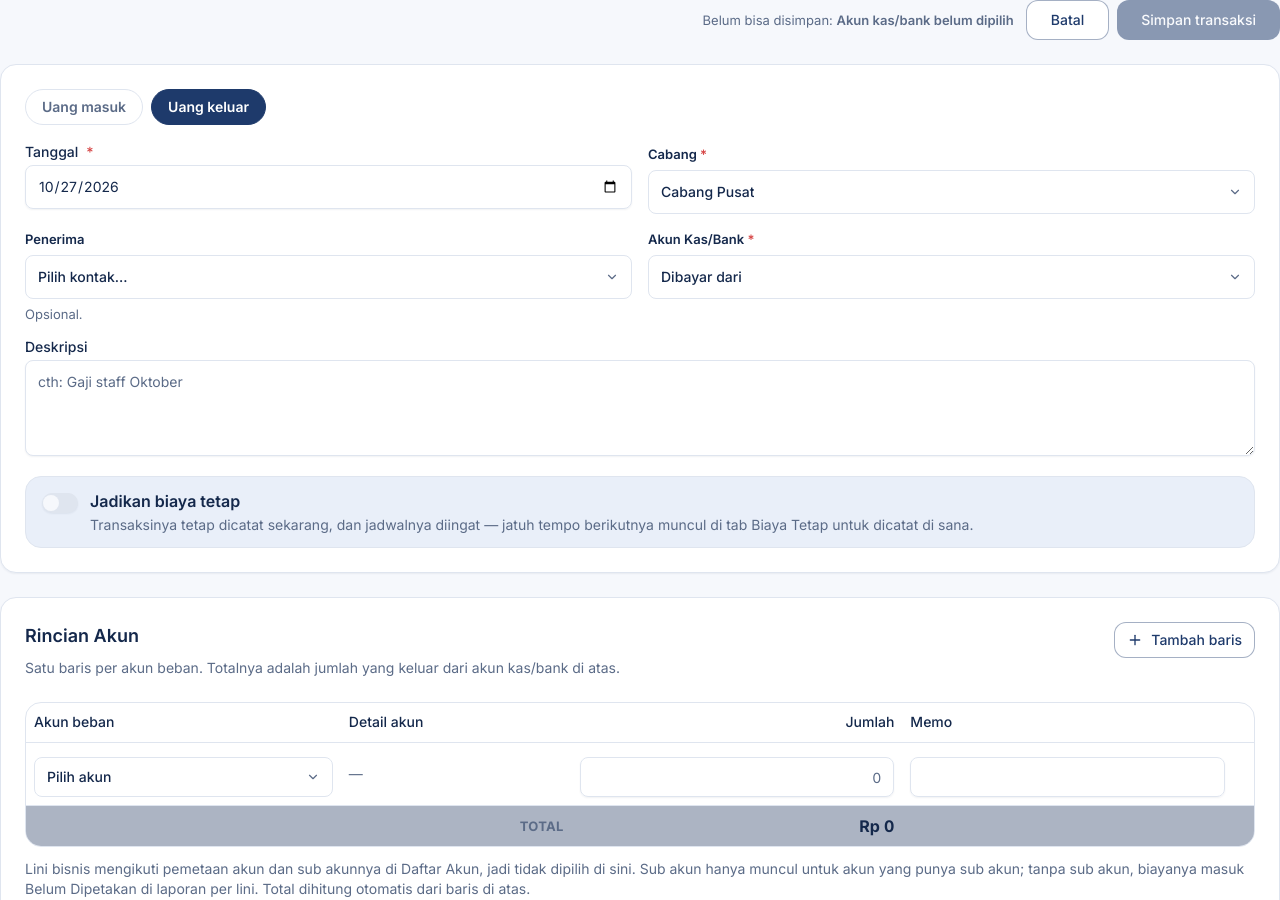
CashTransactionCreateForm › reads the bukti kas series off the account's jenis
The width and height of the screenshot is (1280, 900).
Expected: the button "Simpan transaksi" is shown, [1117,0,1279,40]
Click the button with aria-label "Akun Kas/Bank" at (701, 276), box [648,255,1255,299]
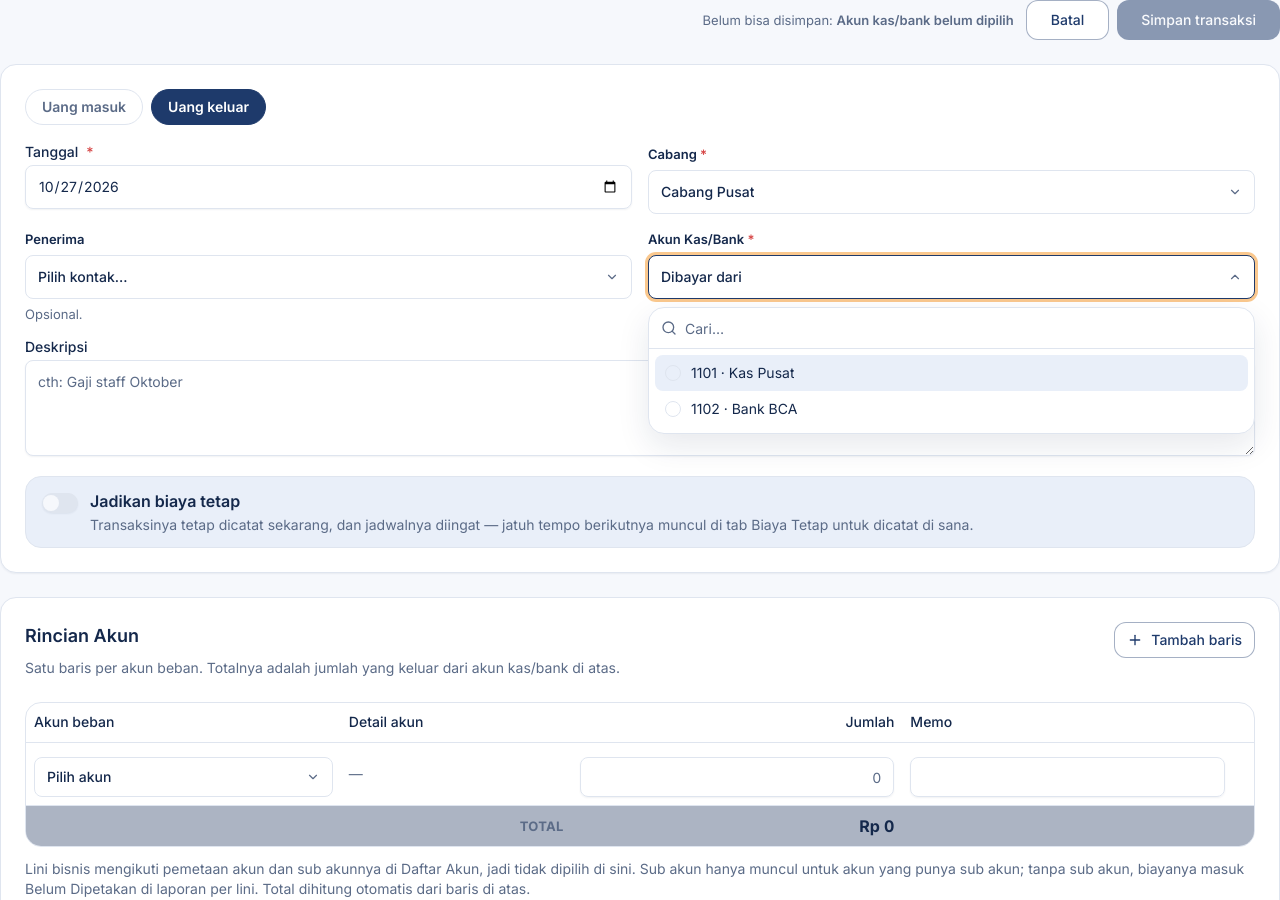
Click the option "1101 · Kas Pusat" at (743, 372), box [655,355,1248,391]
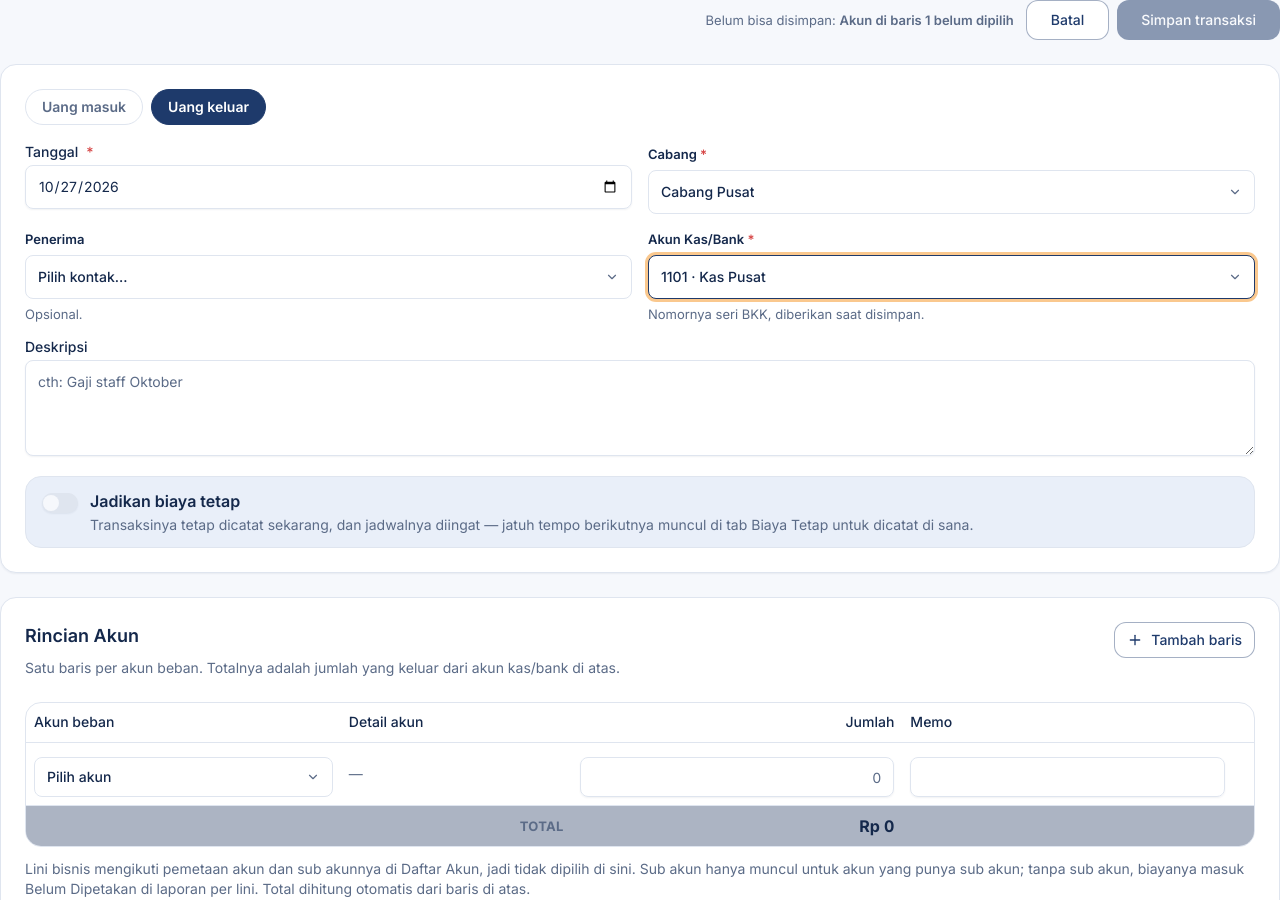
Expected: the text "Nomornya seri BKK, diberikan saat disimpan." is shown, [648,306,924,322]
Click the button with aria-label "Akun Kas/Bank" at (713, 276), box [648,255,1255,299]
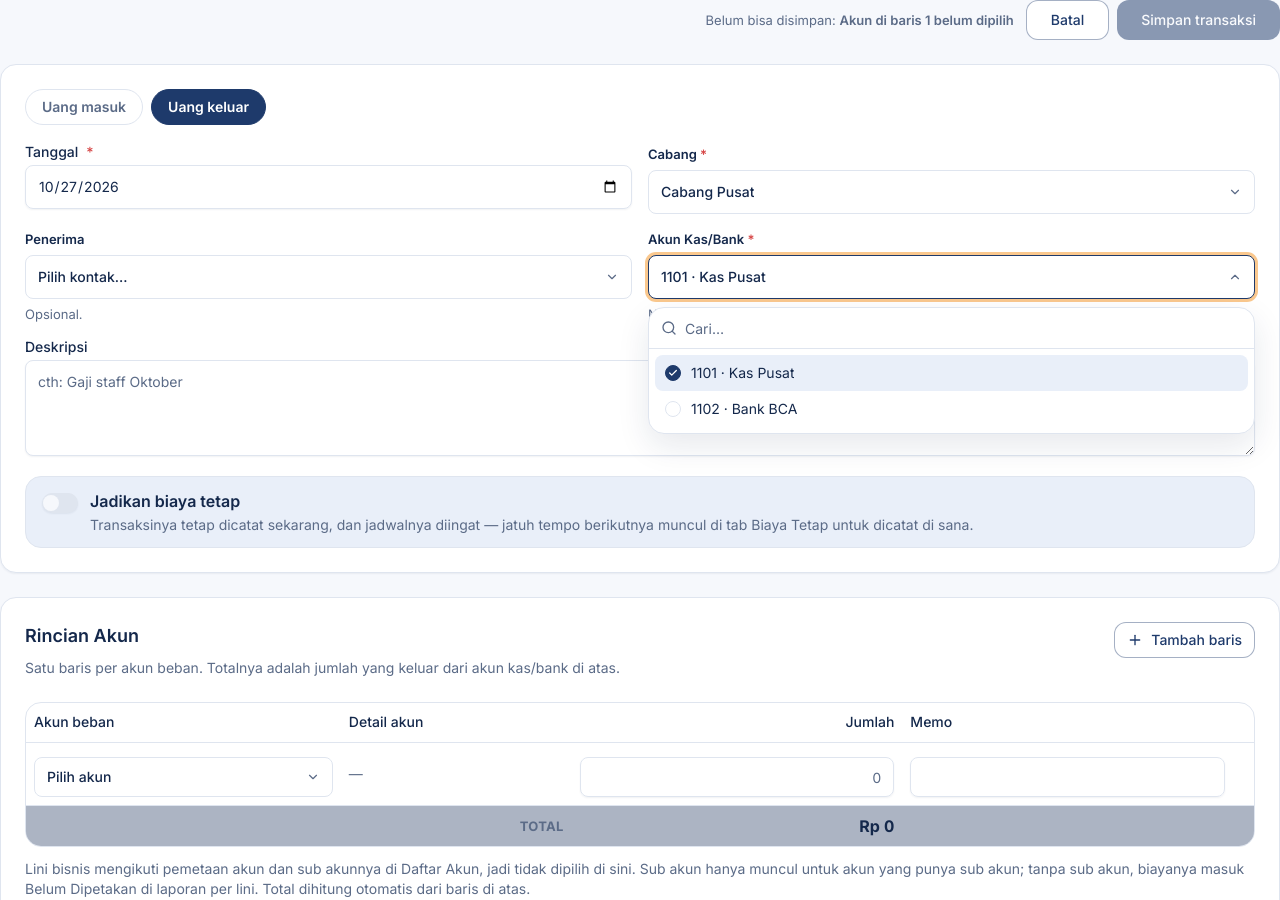
Click the option "1102 · Bank BCA" at (731, 408), box [665,400,797,417]
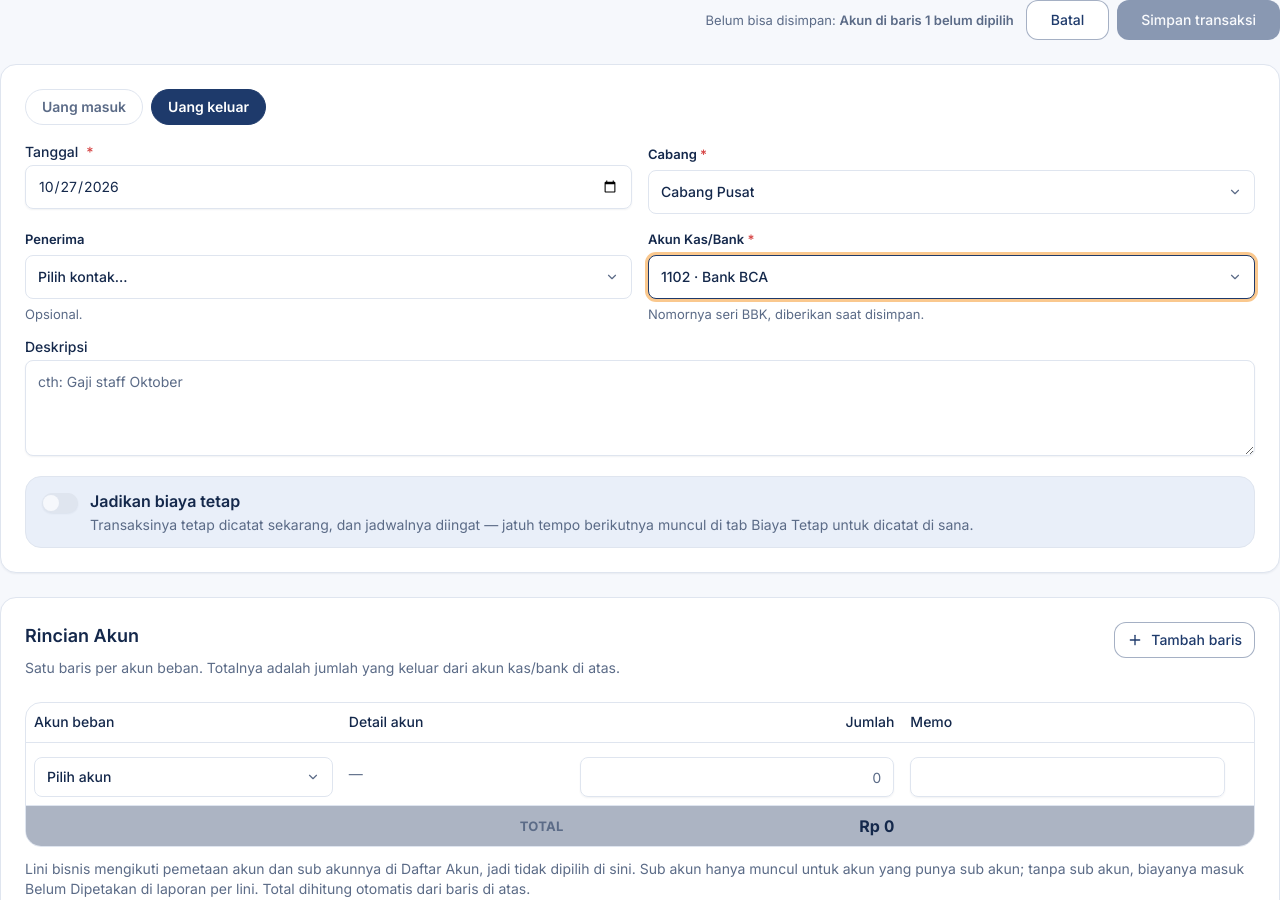
Expected: the text "Nomornya seri BBK, diberikan saat disimpan." is shown, [648,306,924,322]
